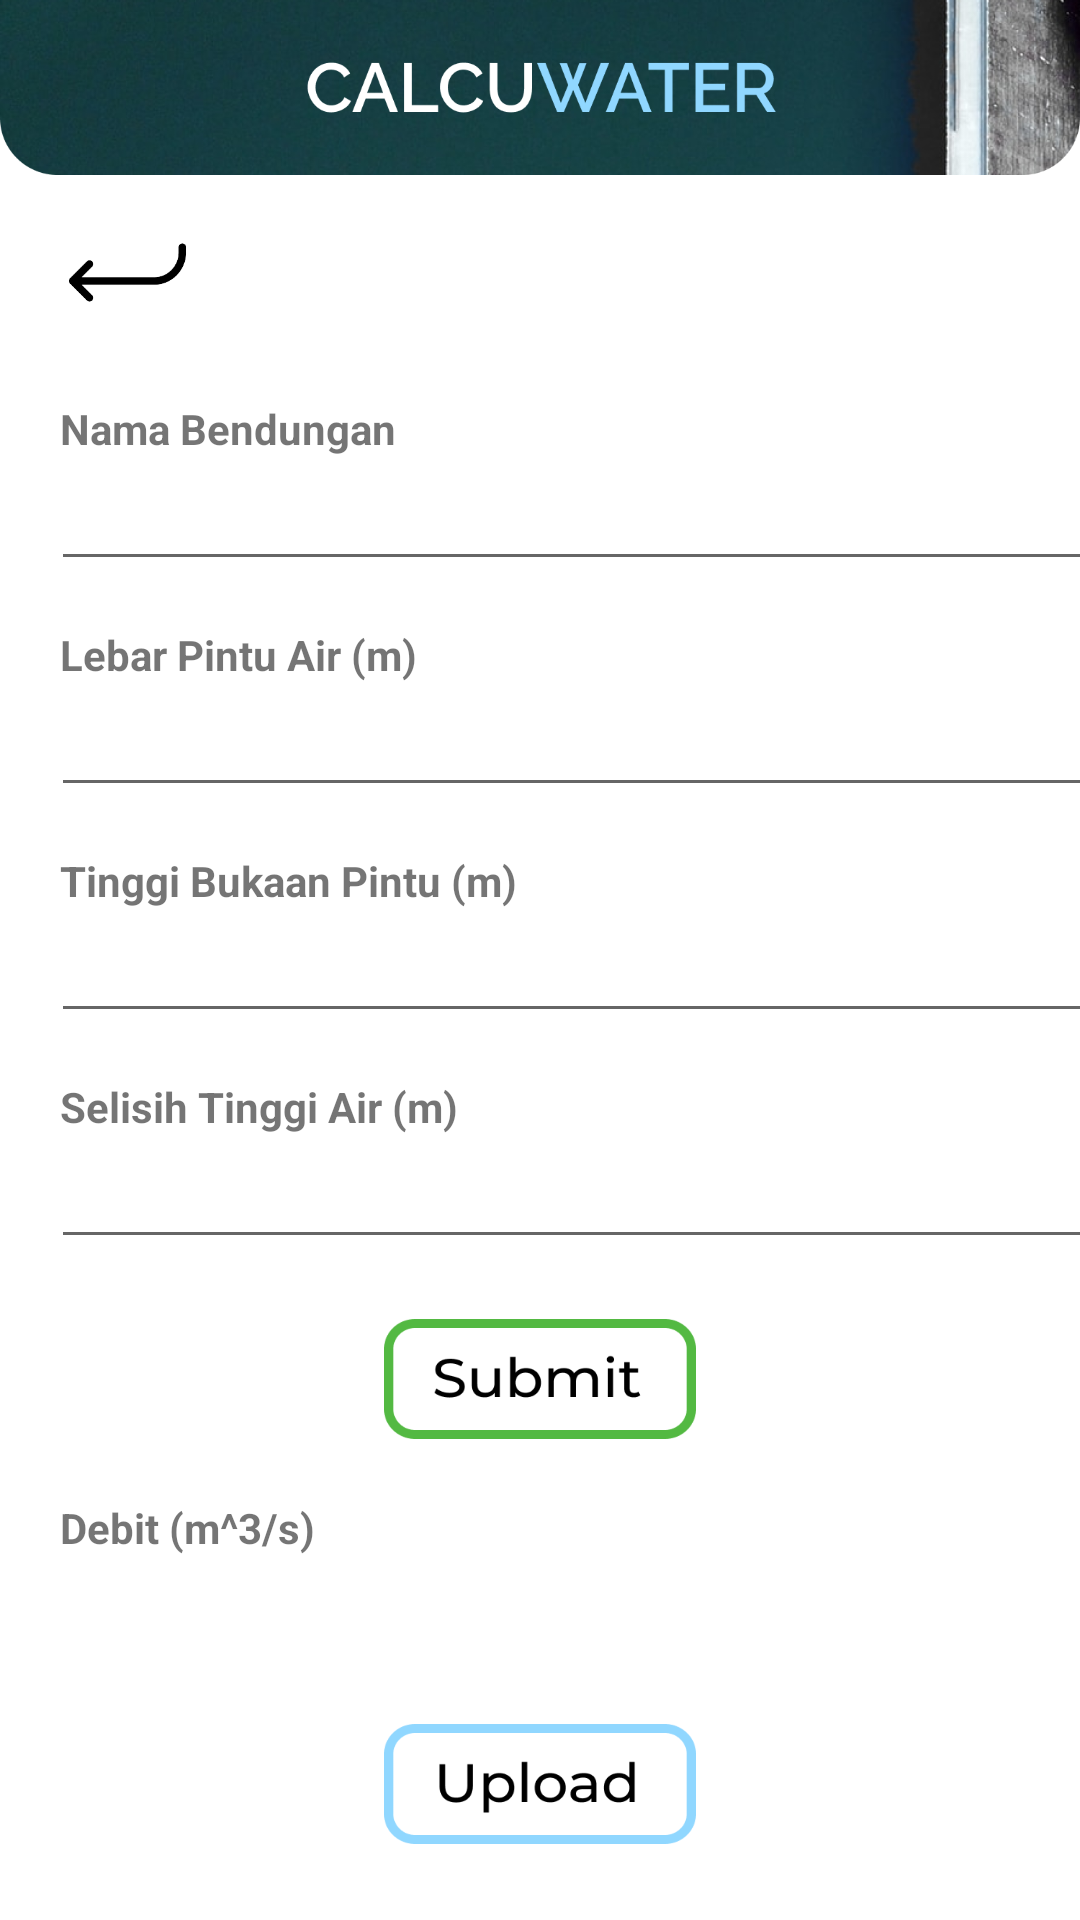

Screen size 1080 x 1920. Icon name, then its box in pixels as bbox=(x1, y1, x2, y2):
btnback: bbox=(69, 243, 186, 302)
